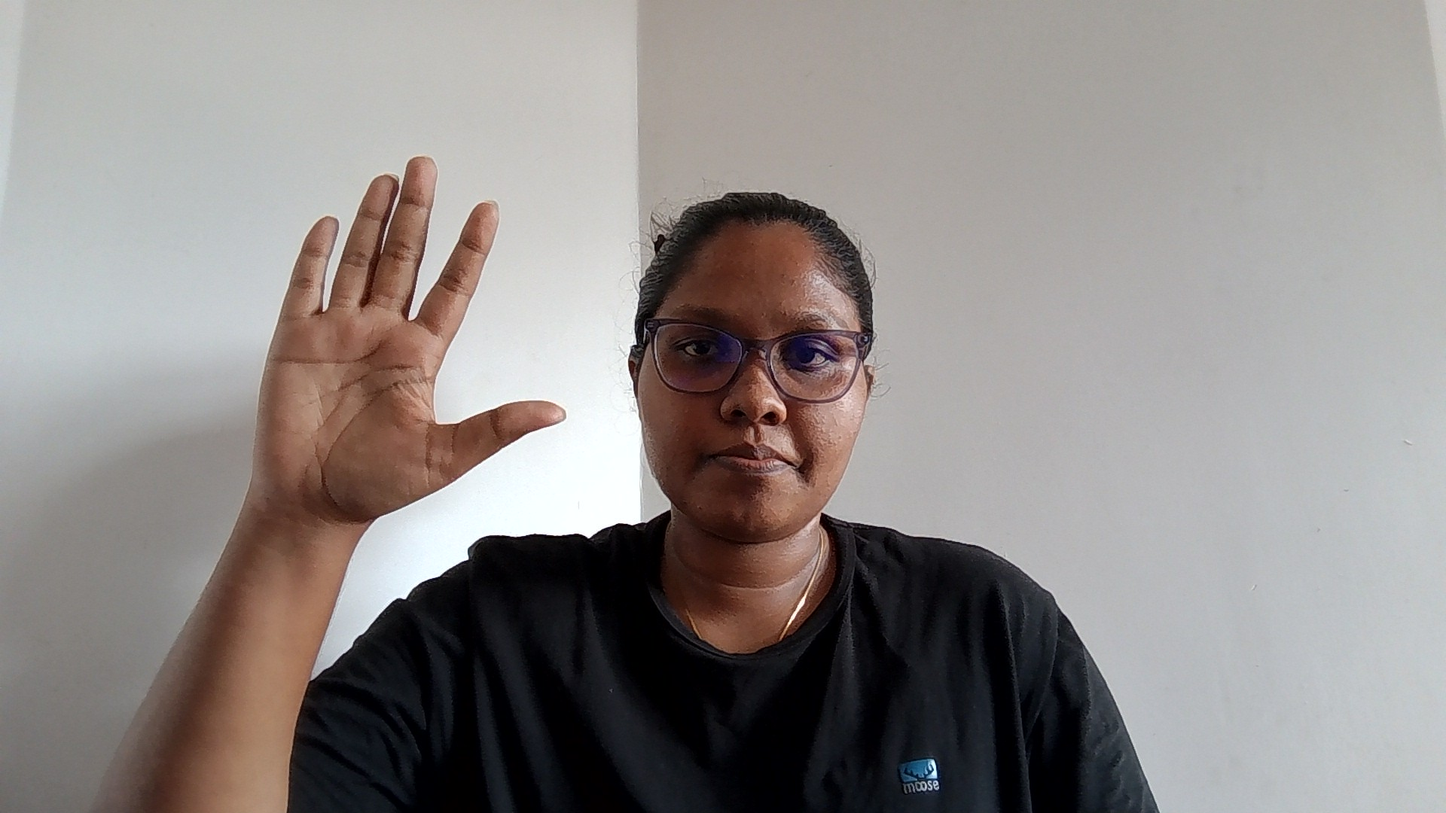Hello: (230, 68, 625, 592)
